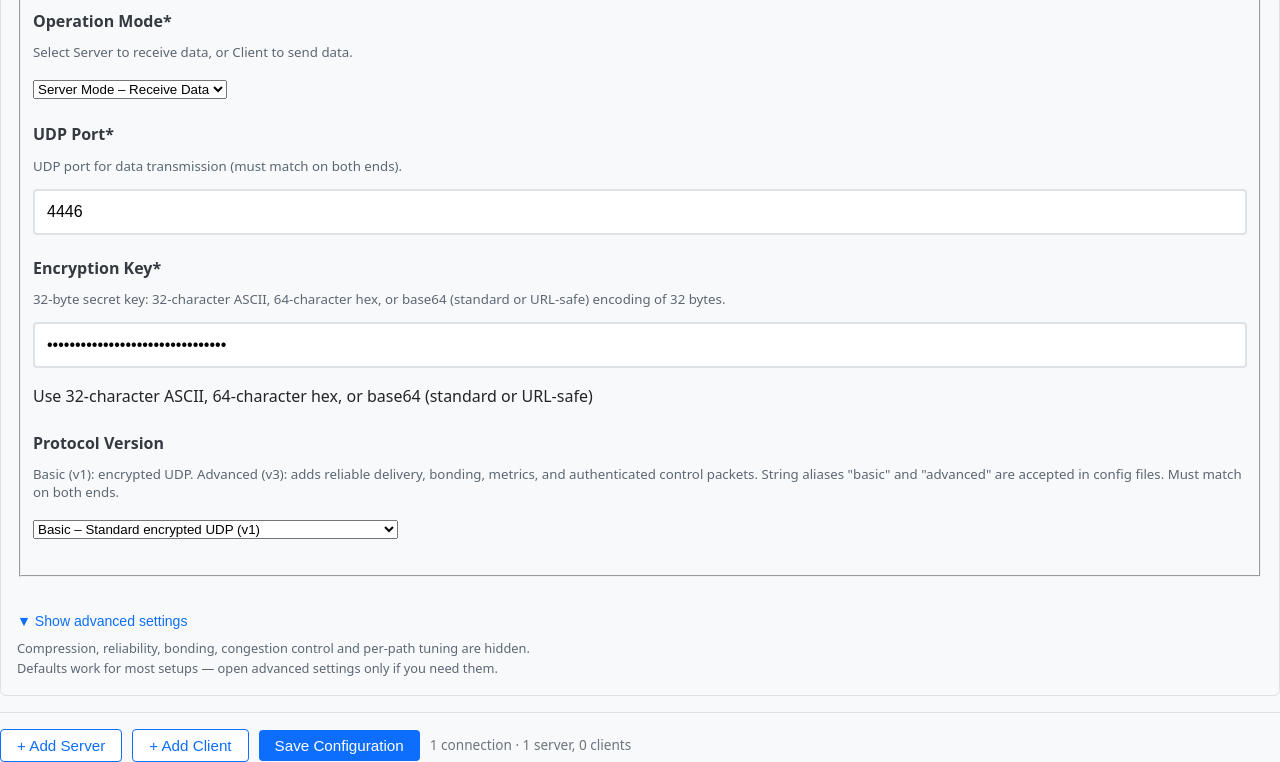
Scenario: PluginConfigurationPanel › shows success message after save
This screenshot has width=1280, height=762.
(page scrolled)
Click the button "Save Configuration" at (339,745), box x1=259 y1=730 x2=420 y2=761
(page scrolled)
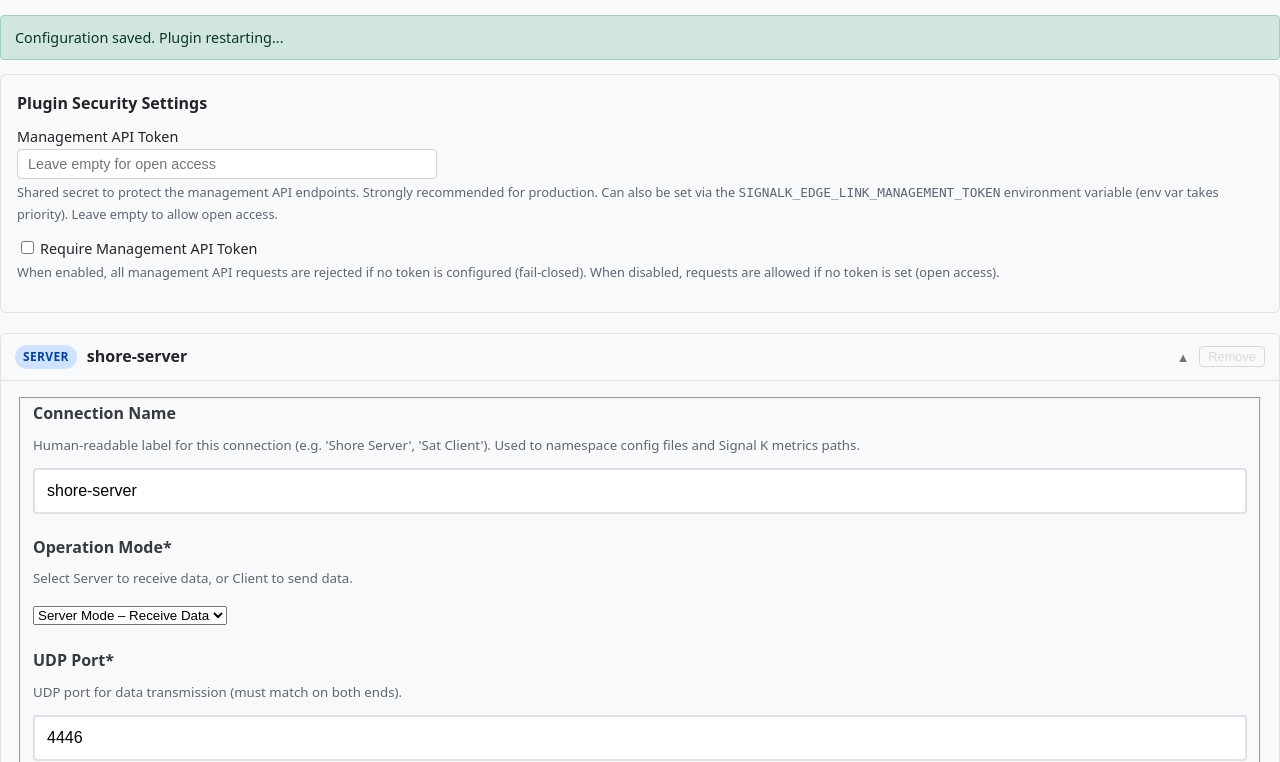
Now the text "Configuration saved. Plugin restarting..." is shown, box x1=0 y1=14 x2=1279 y2=60
